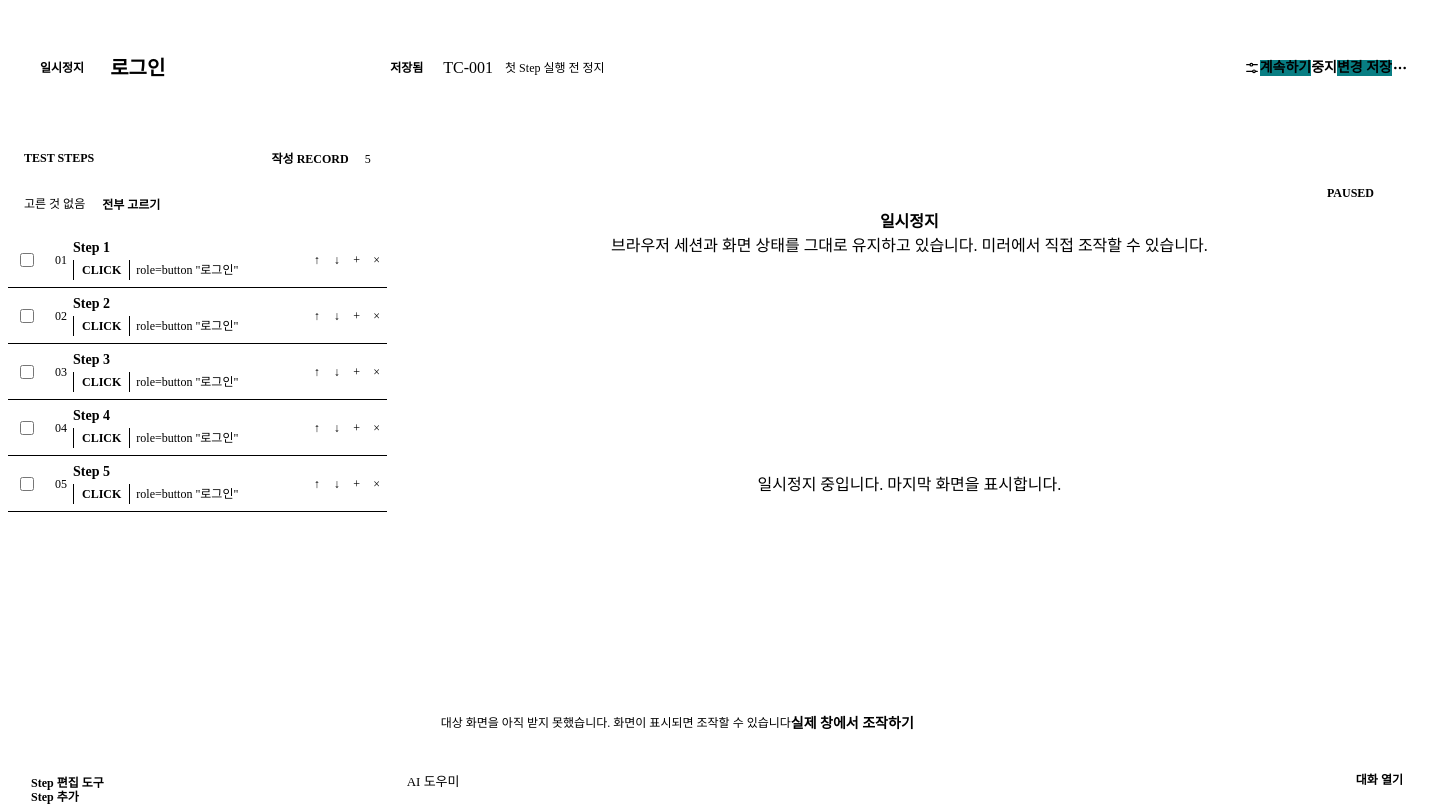
Test case: UC-011-18 — 확인이 개수와 범위를 말한다 › 띄어져 있는 셋을 고르면 「사이에서 고른 3개」로 말한다
Click the checkbox named "Step 1 지울 대상으로 고르기": x=27, y=260 [20, 252, 34, 266]
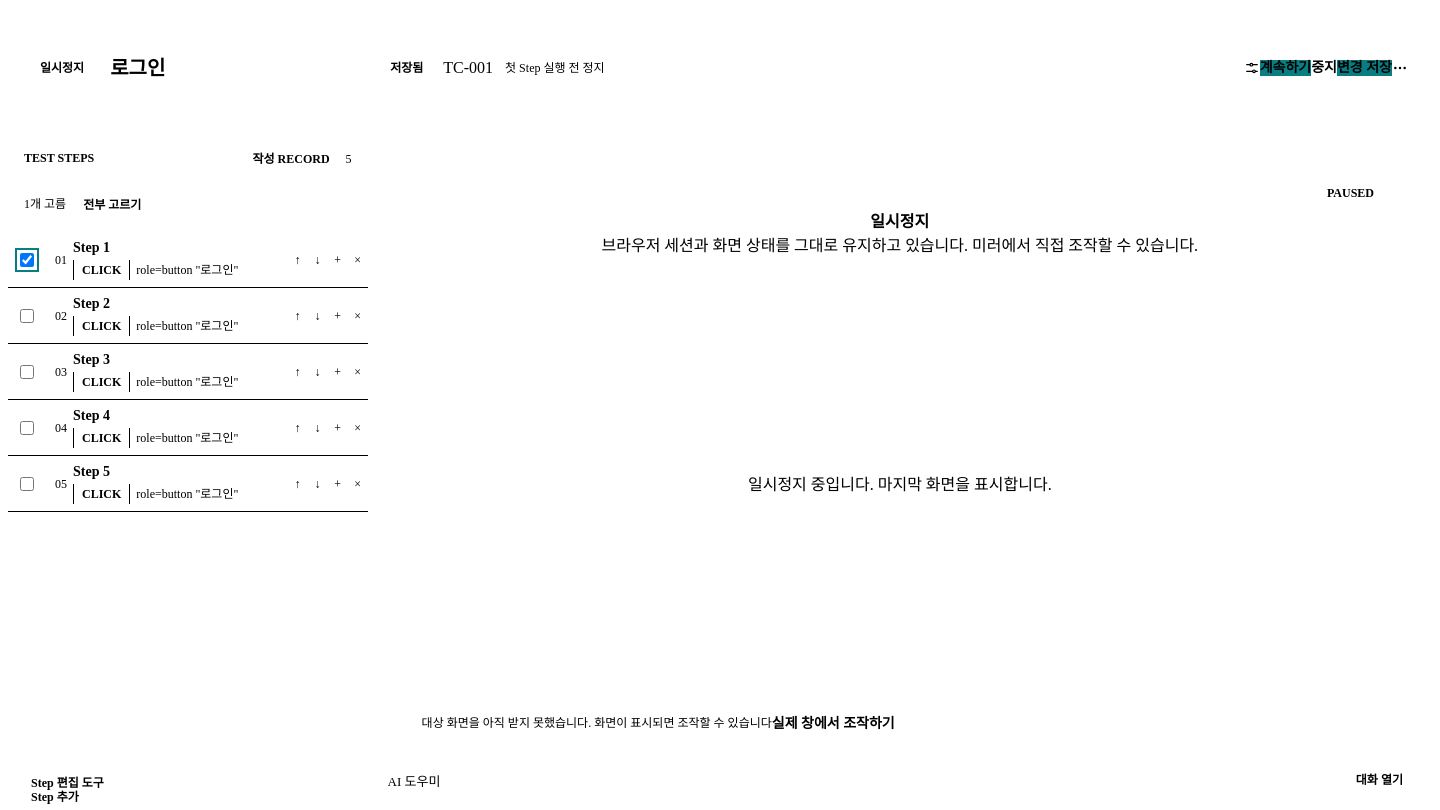
Click the checkbox named "Step 3 지울 대상으로 고르기": x=27, y=372 [20, 364, 34, 378]
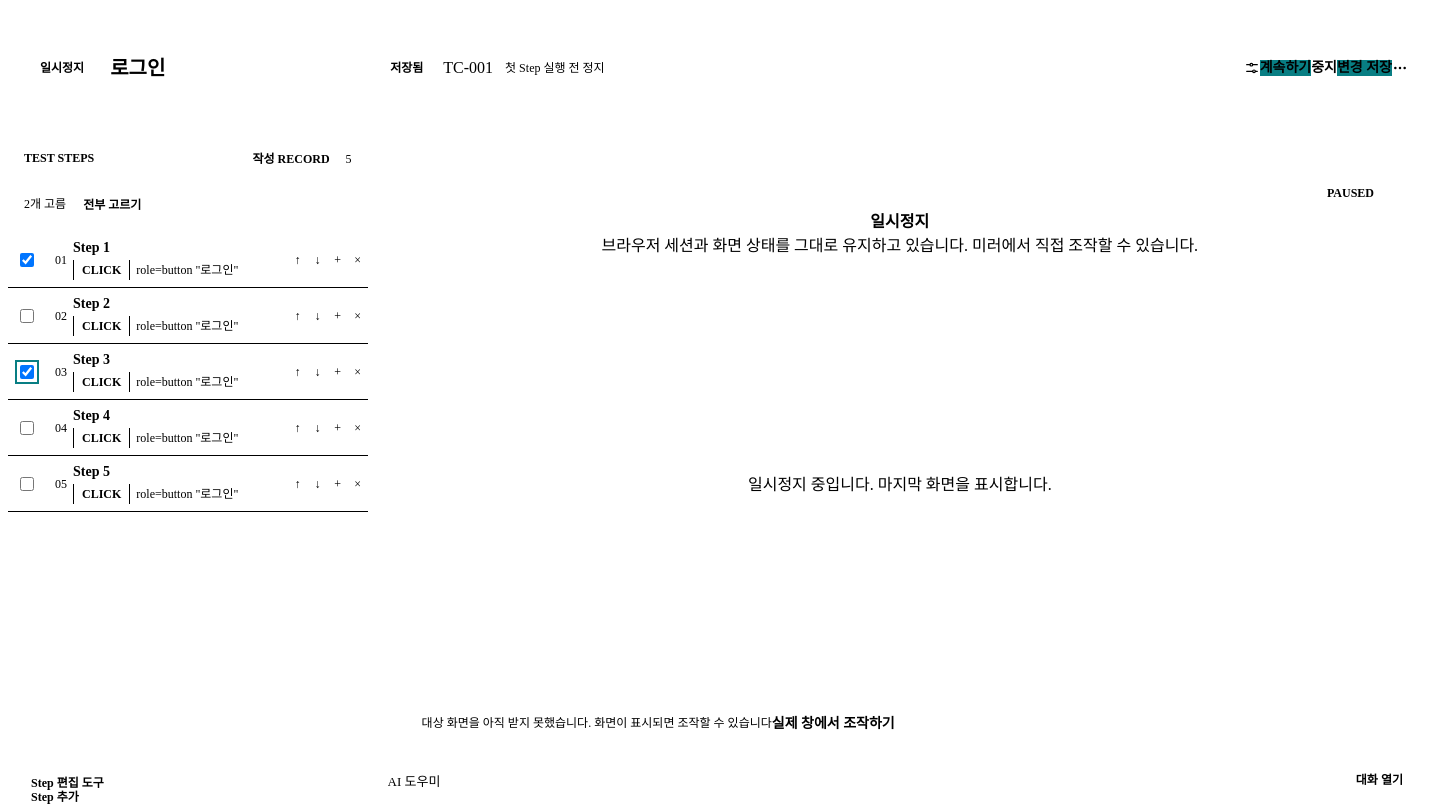
Click the checkbox named "Step 5 지울 대상으로 고르기": x=27, y=484 [20, 476, 34, 490]
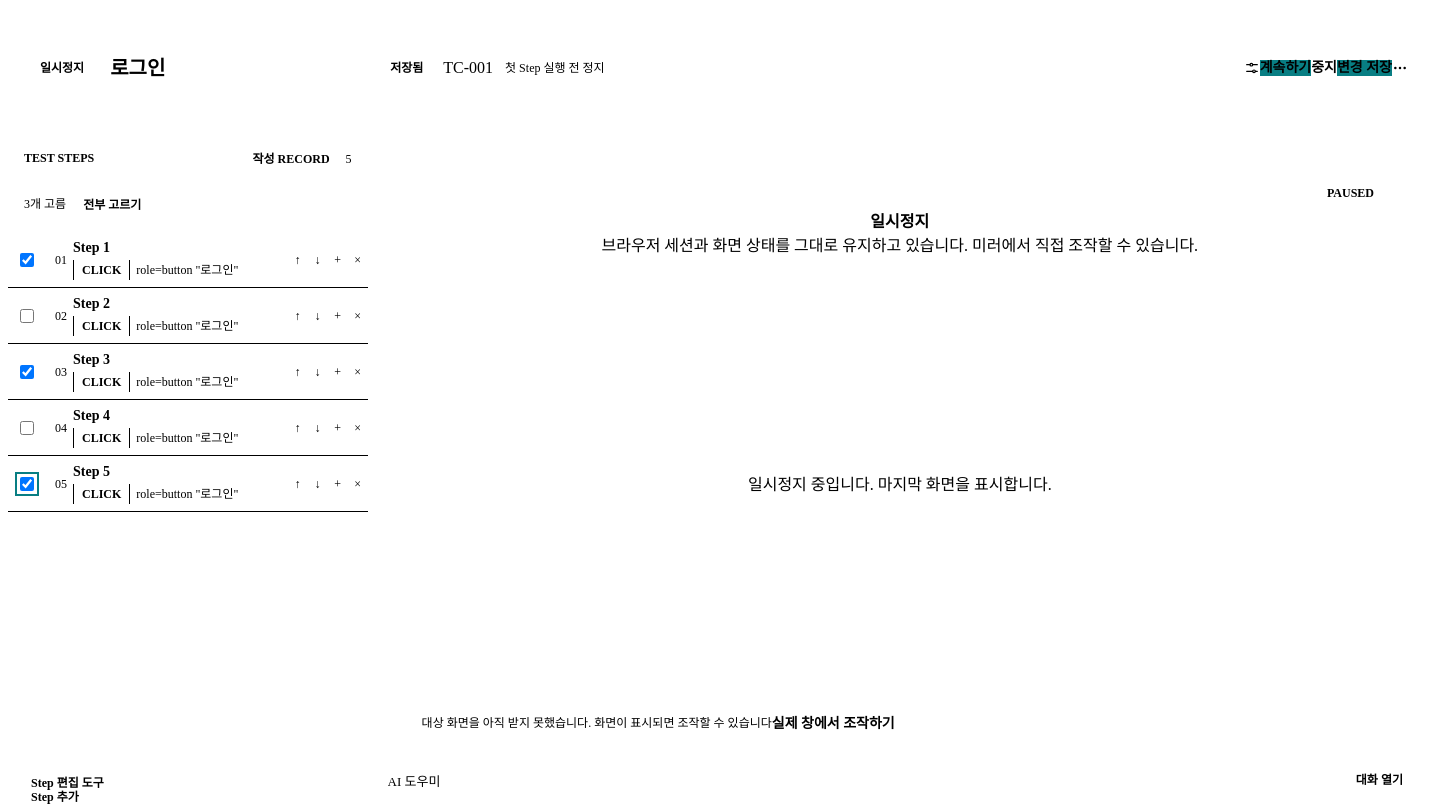
Click the button "Step 편집 도구": x=67, y=783 [22, 776, 113, 790]
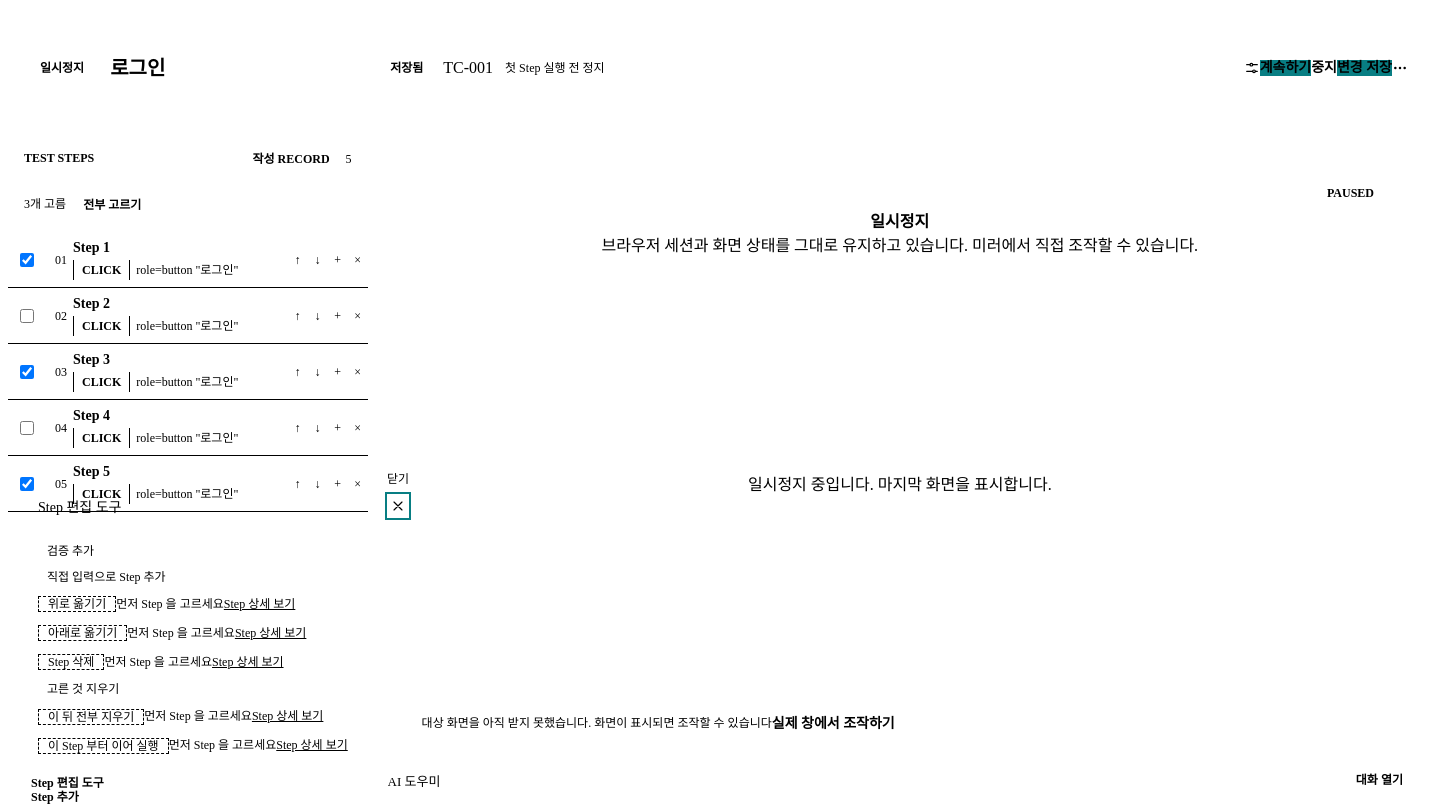
Click the button "고른 것 지우기": x=83, y=689 [38, 682, 128, 696]
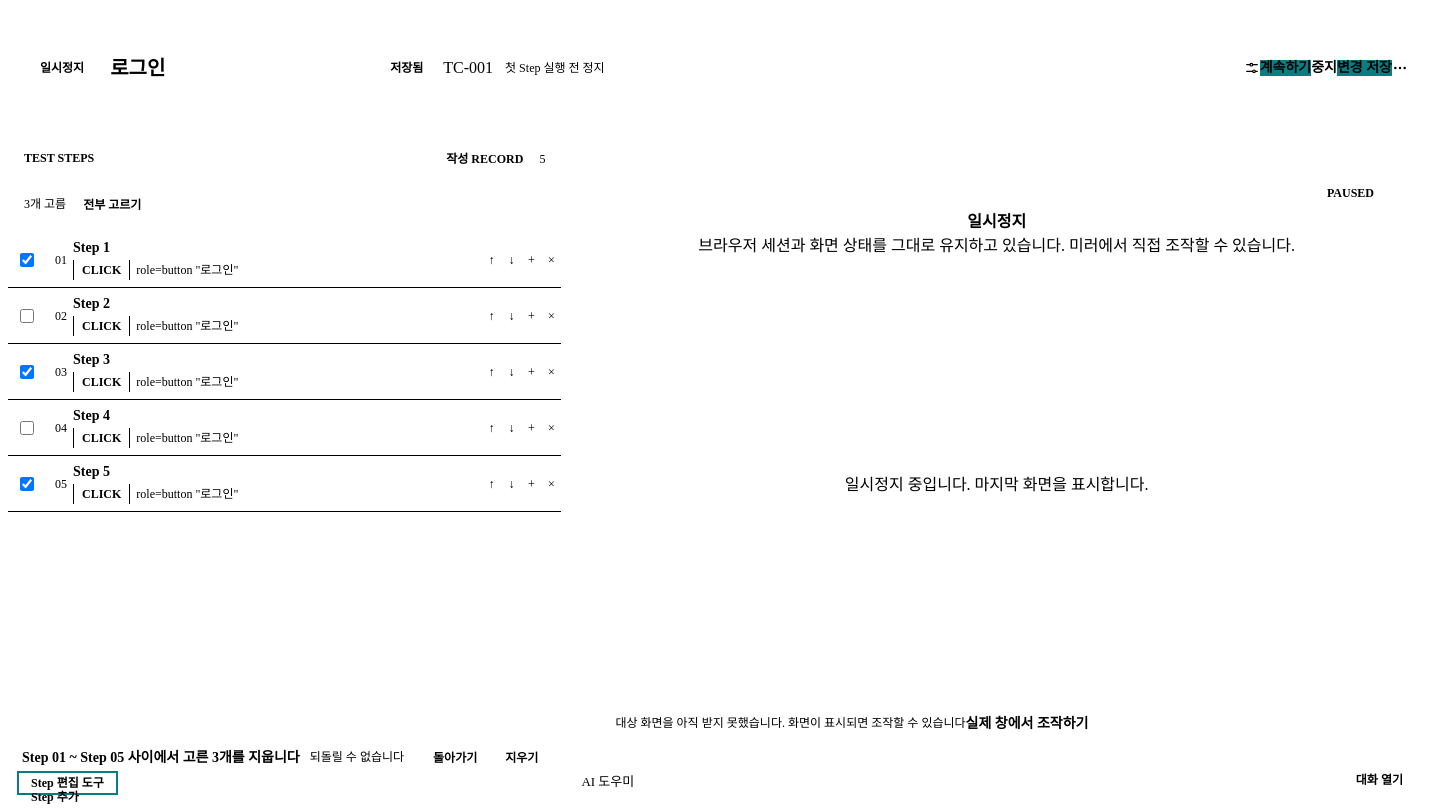
Check: the message "Step 01 ~ Step 05 사이에서 고른 3개를 지웁니다 되돌릴 수 없습니다 돌아가기 지우기" is shown, box [22, 749, 547, 766]
